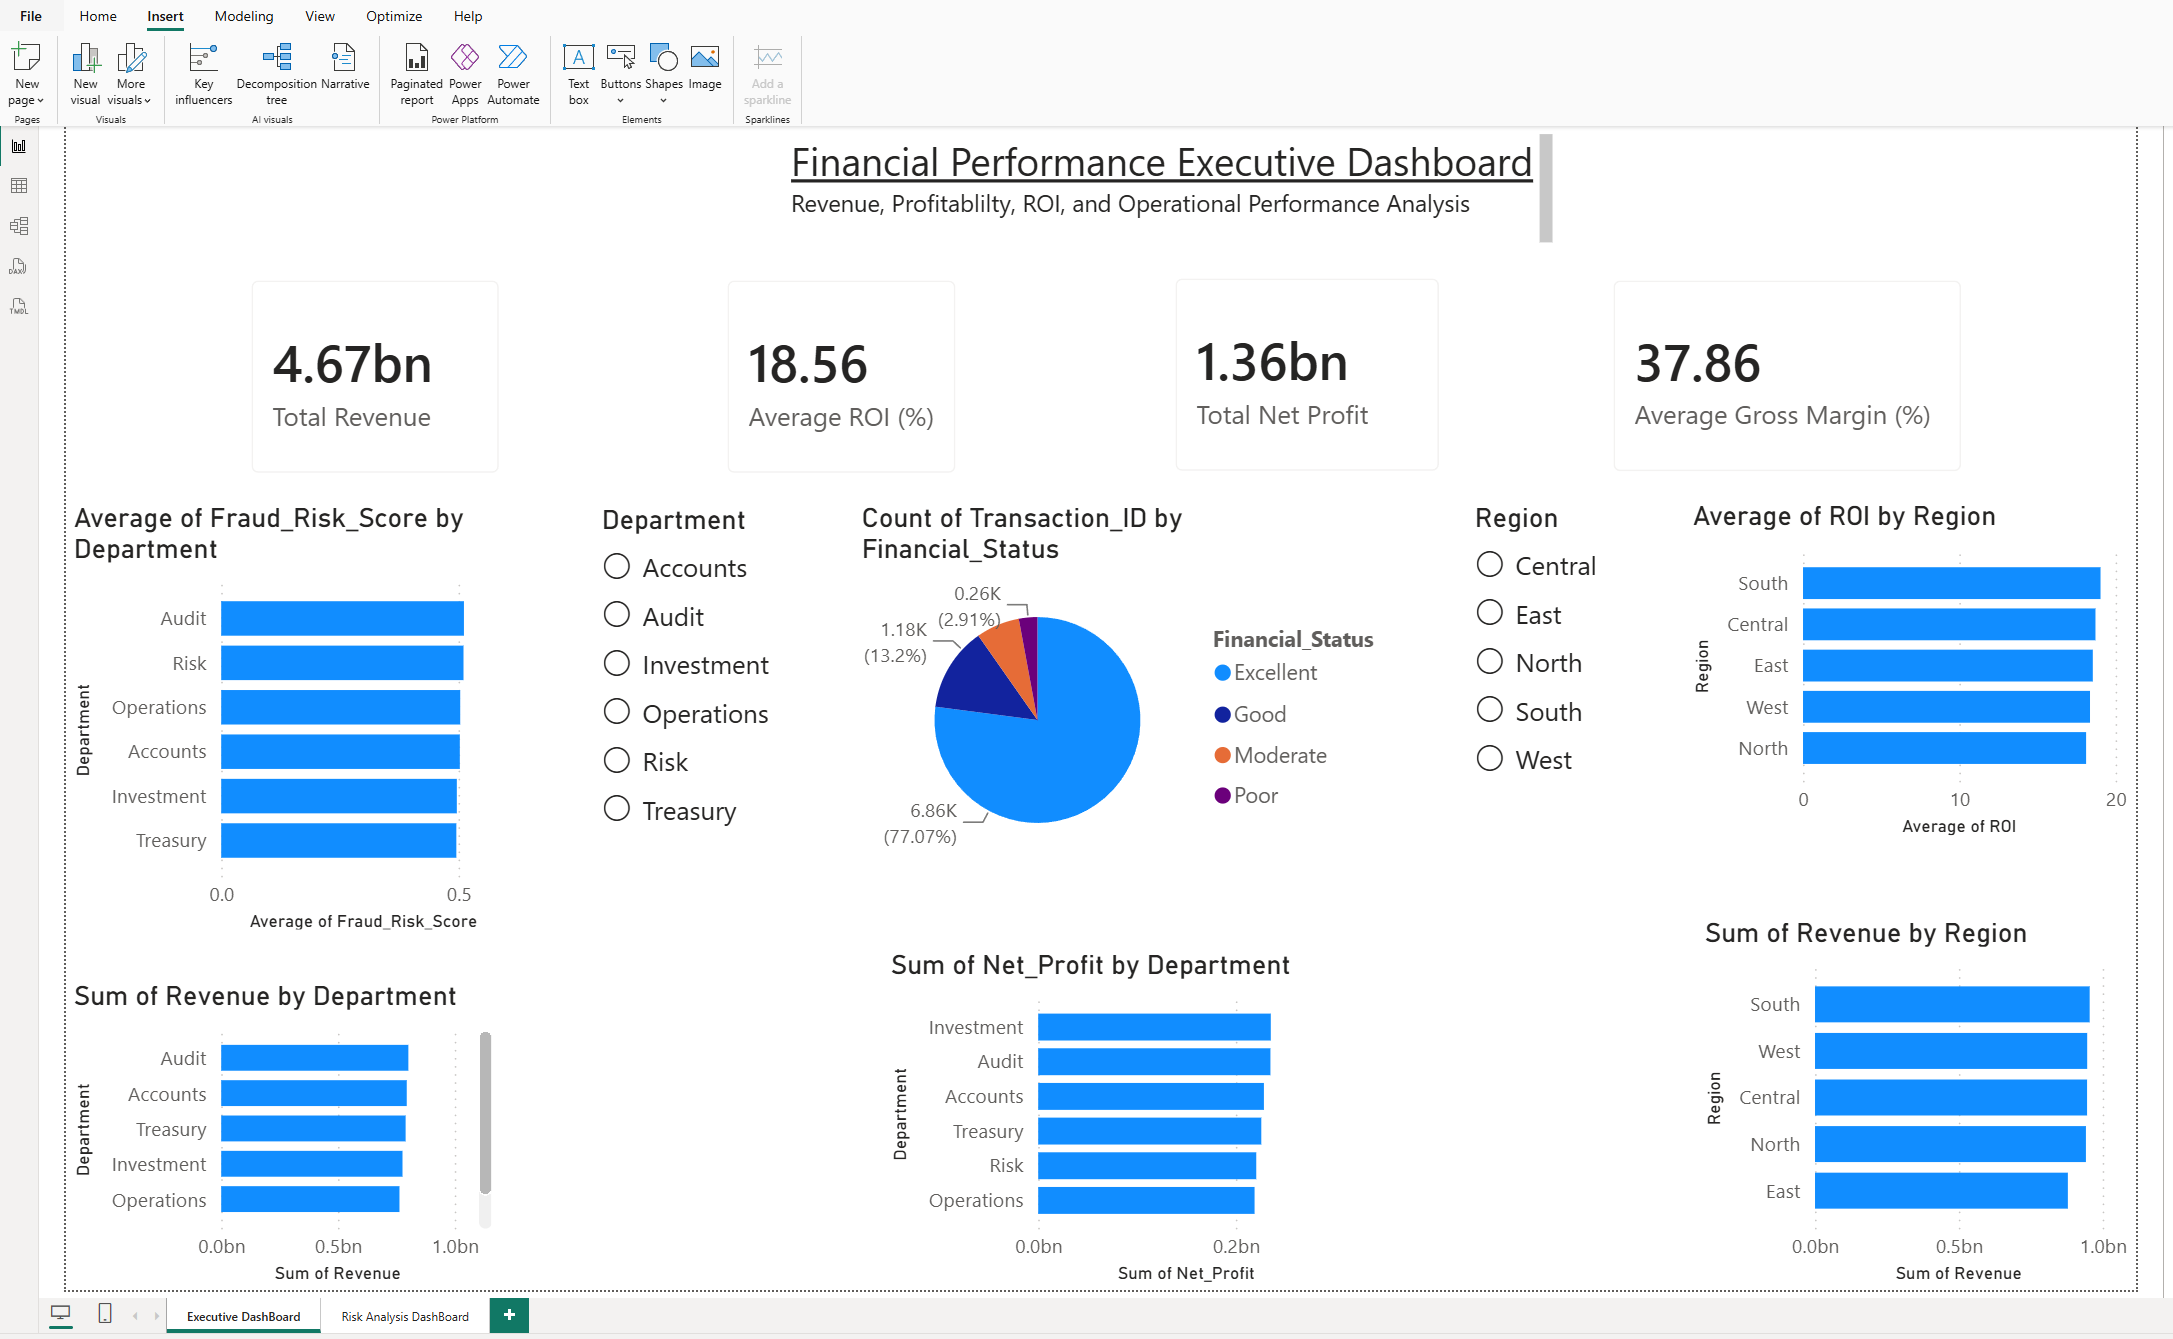

Layout of this report page (visuals, bound fields, positions):
{"tool":"powerbi","page":{"name":"Executive DashBoard","canvas":[1280,720],"ordinal":0},"visuals":[{"type":"cardVisual","fields":{"Data":["Sum(IoT_Financial_Management_Dataset.Revenue)"]},"box":[97.7,78.6,187.4,153.4],"z":0},{"type":"cardVisual","fields":{"Data":["Sum(IoT_Financial_Management_Dataset.Net_Profit)"]},"box":[669.3,77.3,197.3,153.4],"z":1000},{"type":"cardVisual","fields":{"Data":["Avg(IoT_Financial_Management_Dataset.ROI)"]},"box":[392.2,78.6,175.7,153.4],"z":2000},{"type":"cardVisual","fields":{"Data":["Avg(IoT_Financial_Management_Dataset.Gross_Margin)"]},"box":[940.1,78.4,249.6,152.1],"z":3000},{"type":"clusteredBarChart","fields":{"Y":["Sum(IoT_Financial_Management_Dataset.Revenue)"],"Category":["IoT_Financial_Management_Dataset.Region"]},"box":[1008.9,488.7,270.9,231.3],"z":4000},{"type":"clusteredBarChart","fields":{"Y":["Sum(IoT_Financial_Management_Dataset.Revenue)"],"Category":["IoT_Financial_Management_Dataset.Department"]},"box":[0,527.6,268.5,192.4],"z":5000},{"type":"clusteredBarChart","fields":{"Y":["Sum(IoT_Financial_Management_Dataset.Net_Profit)"],"Category":["IoT_Financial_Management_Dataset.Department"]},"box":[505.4,508.5,299.4,211.5],"z":6000},{"type":"clusteredBarChart","fields":{"Category":["IoT_Financial_Management_Dataset.Region"],"Y":["Avg(IoT_Financial_Management_Dataset.ROI)"]},"box":[1001.4,230.7,278.4,212.8],"z":7000},{"type":"pieChart","fields":{"Category":["IoT_Financial_Management_Dataset.Financial_Status"],"Y":["CountNonNull(IoT_Financial_Management_Dataset.Transaction_ID)"]},"box":[487.3,231.8,334,232.9],"z":8000},{"type":"clusteredBarChart","fields":{"Category":["IoT_Financial_Management_Dataset.Department"],"Y":["Avg(IoT_Financial_Management_Dataset.Fraud_Risk_Score)"]},"box":[0,232,285.2,270.3],"z":9000},{"type":"listSlicer","fields":{"Values":["IoT_Financial_Management_Dataset.Region"]},"box":[866.4,231.8,102.2,215.1],"z":10000},{"type":"listSlicer","fields":{"Values":["IoT_Financial_Management_Dataset.Department"]},"box":[326.8,232.9,129.5,213.9],"z":11000},{"type":"textbox","box":[443.3,0,481.3,78.4],"z":12000}]}

Visuals, with their boxes on the page's 1280x720 design canvas (x1, y1, x2, y2). These are canvas units, not pixel positions in the 2173x1339 screenshot, which may show the page scaled, cropped or inside an application window:
cardVisual - Sum(IoT_Financial_Management_Dataset.Revenue): l=98, t=79, r=285, b=232
cardVisual - Sum(IoT_Financial_Management_Dataset.Net_Profit): l=669, t=77, r=867, b=231
cardVisual - Avg(IoT_Financial_Management_Dataset.ROI): l=392, t=79, r=568, b=232
cardVisual - Avg(IoT_Financial_Management_Dataset.Gross_Margin): l=940, t=78, r=1190, b=230
clusteredBarChart - Sum(IoT_Financial_Management_Dataset.Revenue) x IoT_Financial_Management_Dataset.Region: l=1009, t=489, r=1280, b=720
clusteredBarChart - Sum(IoT_Financial_Management_Dataset.Revenue) x IoT_Financial_Management_Dataset.Department: l=0, t=528, r=268, b=720
clusteredBarChart - Sum(IoT_Financial_Management_Dataset.Net_Profit) x IoT_Financial_Management_Dataset.Department: l=505, t=508, r=805, b=720
clusteredBarChart - IoT_Financial_Management_Dataset.Region x Avg(IoT_Financial_Management_Dataset.ROI): l=1001, t=231, r=1280, b=444
pieChart - IoT_Financial_Management_Dataset.Financial_Status x CountNonNull(IoT_Financial_Management_Dataset.Transaction_ID): l=487, t=232, r=821, b=465
clusteredBarChart - IoT_Financial_Management_Dataset.Department x Avg(IoT_Financial_Management_Dataset.Fraud_Risk_Score): l=0, t=232, r=285, b=502
listSlicer - IoT_Financial_Management_Dataset.Region: l=866, t=232, r=969, b=447
listSlicer - IoT_Financial_Management_Dataset.Department: l=327, t=233, r=456, b=447
textbox: l=443, t=0, r=925, b=78
